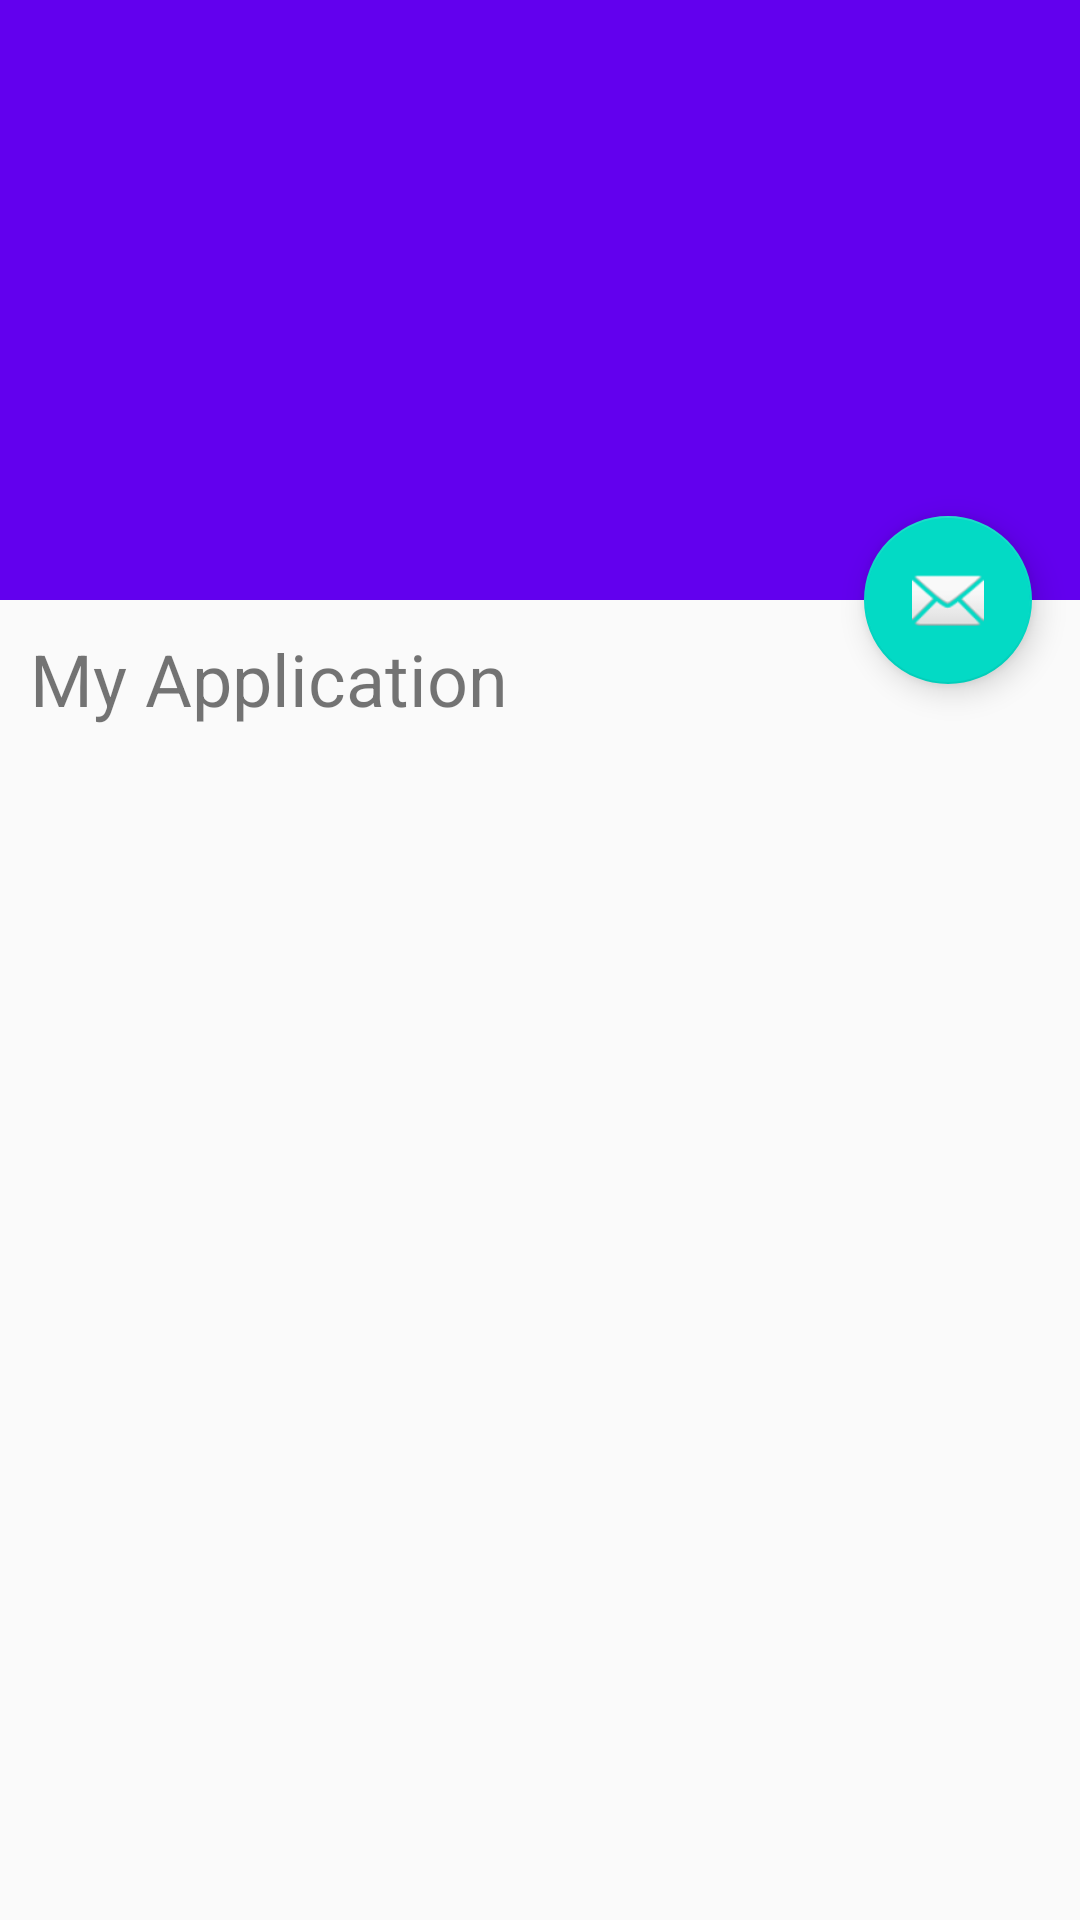

Screen size 1080×1920. Icon name, then its center in pixels as point (x, y):
email: point (948, 600)
